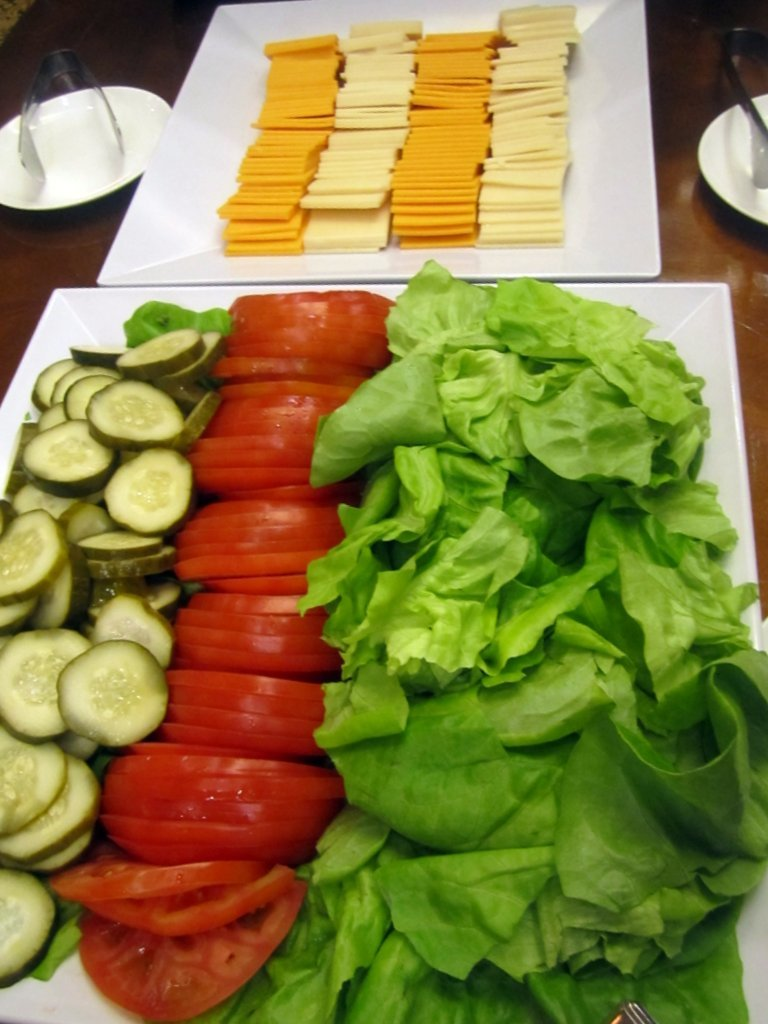Tomato: (47, 288, 397, 1021)
